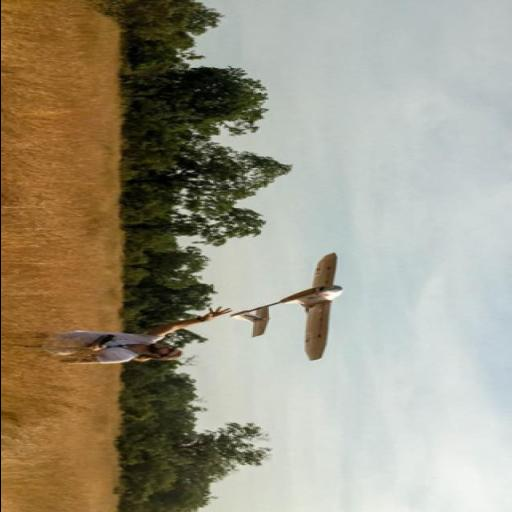uav: (232, 252, 358, 362)
